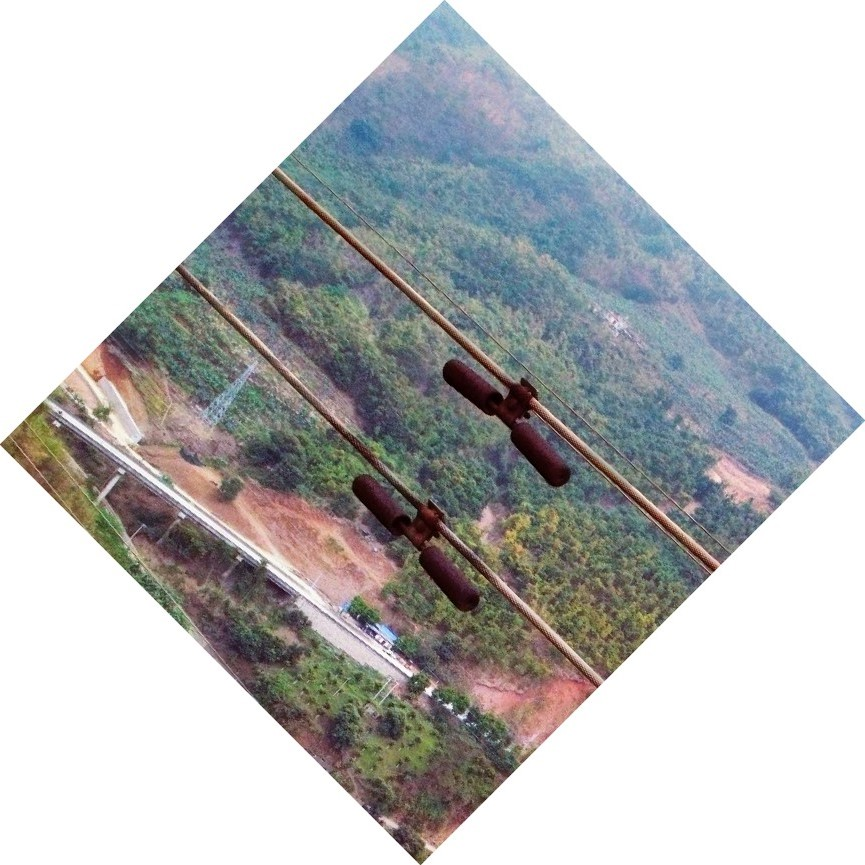Shockproof hammer: (335, 457, 486, 616), (439, 343, 582, 489)
